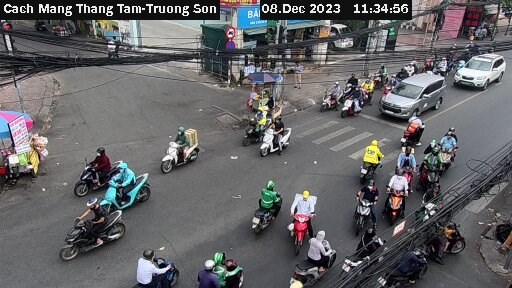car: (380, 68, 451, 121), (455, 48, 507, 89)
motorbike: (60, 200, 128, 256), (183, 248, 256, 288), (154, 128, 221, 169), (276, 193, 326, 246), (124, 247, 188, 288), (94, 170, 162, 208), (290, 236, 338, 288), (345, 179, 386, 233), (235, 176, 278, 227), (370, 170, 416, 215), (73, 148, 116, 189), (432, 127, 474, 166), (415, 146, 450, 189), (390, 145, 427, 184), (236, 106, 275, 140), (354, 139, 384, 181), (400, 113, 437, 146), (256, 125, 297, 154), (340, 90, 378, 118), (317, 85, 349, 112), (339, 70, 368, 99)
